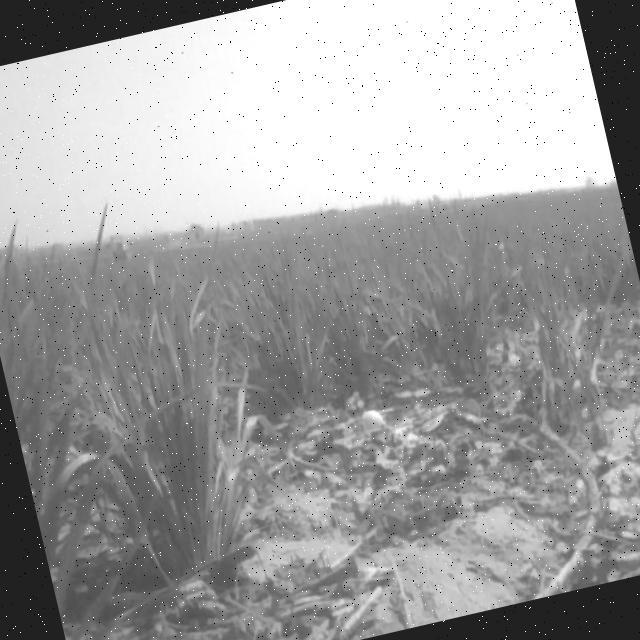ping-pong-ball: (359, 408, 386, 436)
